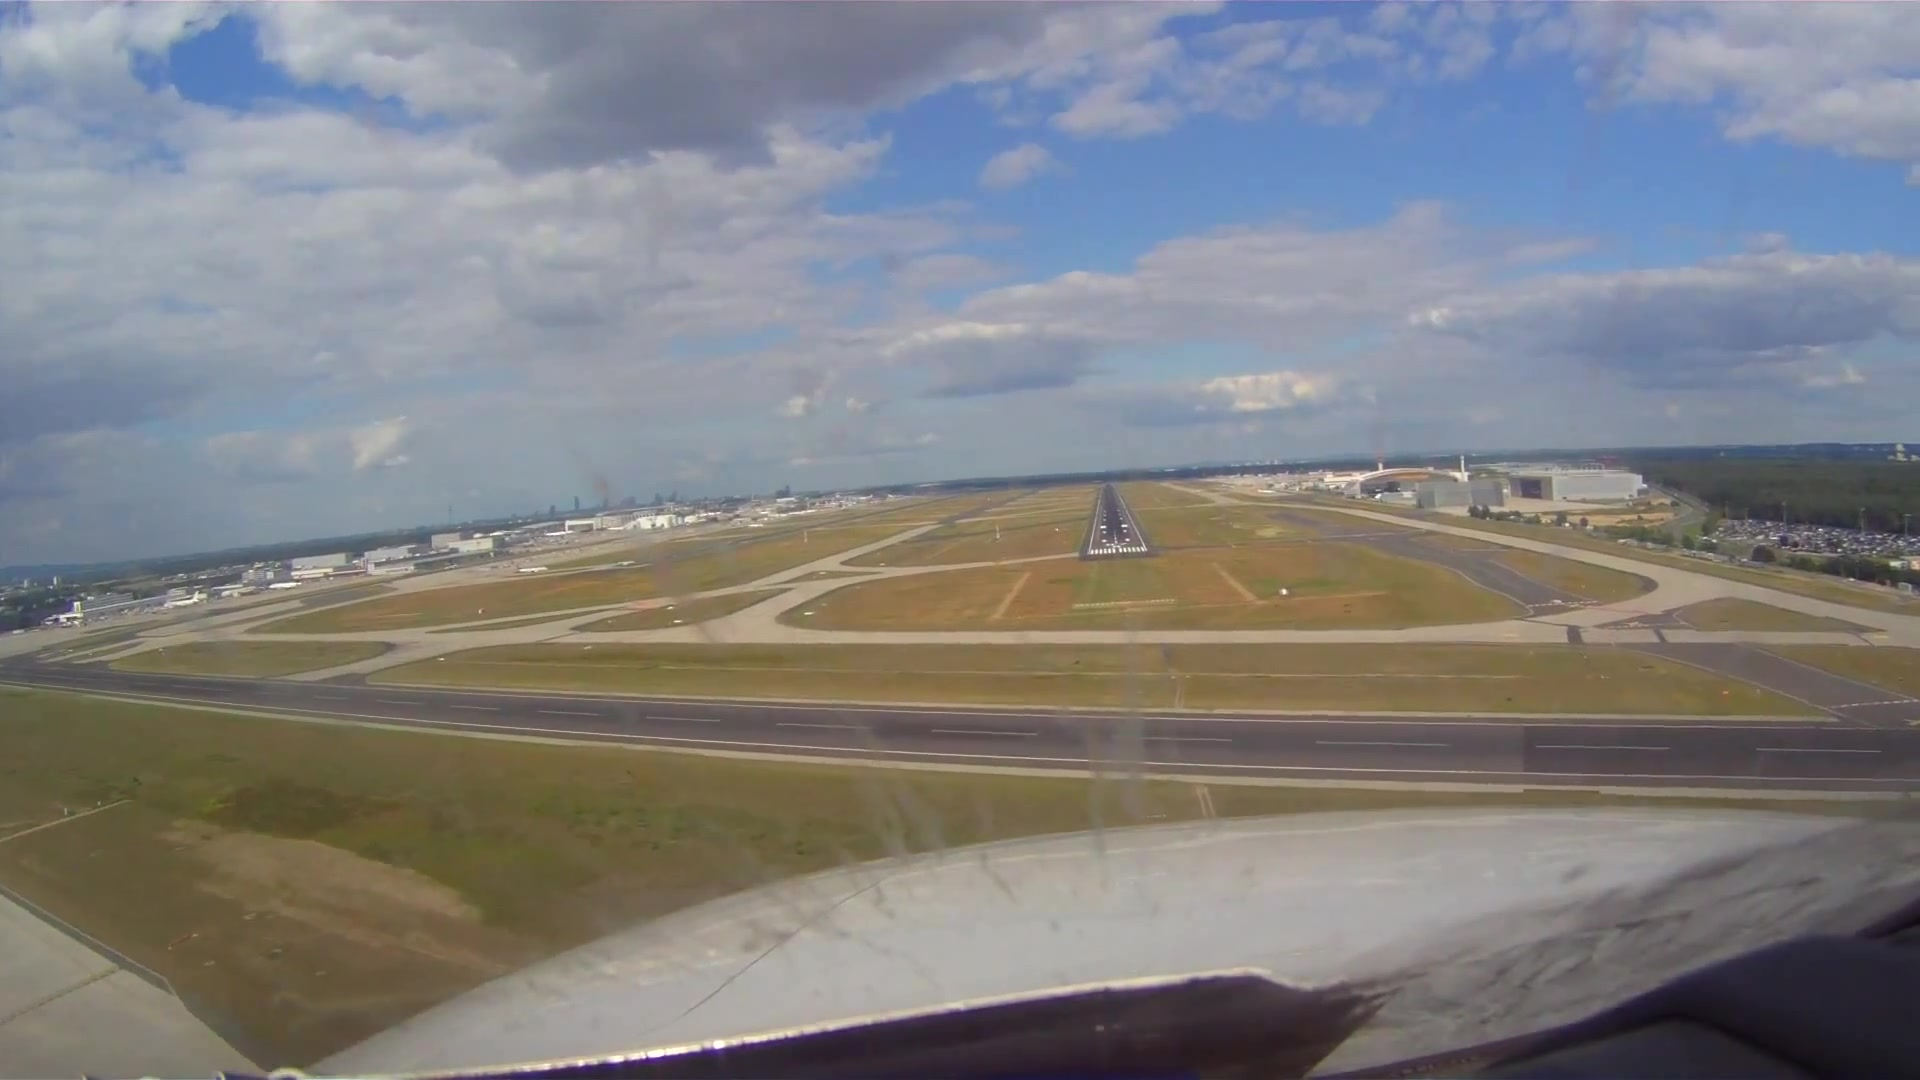entrance: (1087, 546, 1149, 556)
runway: (1081, 479, 1151, 560)
